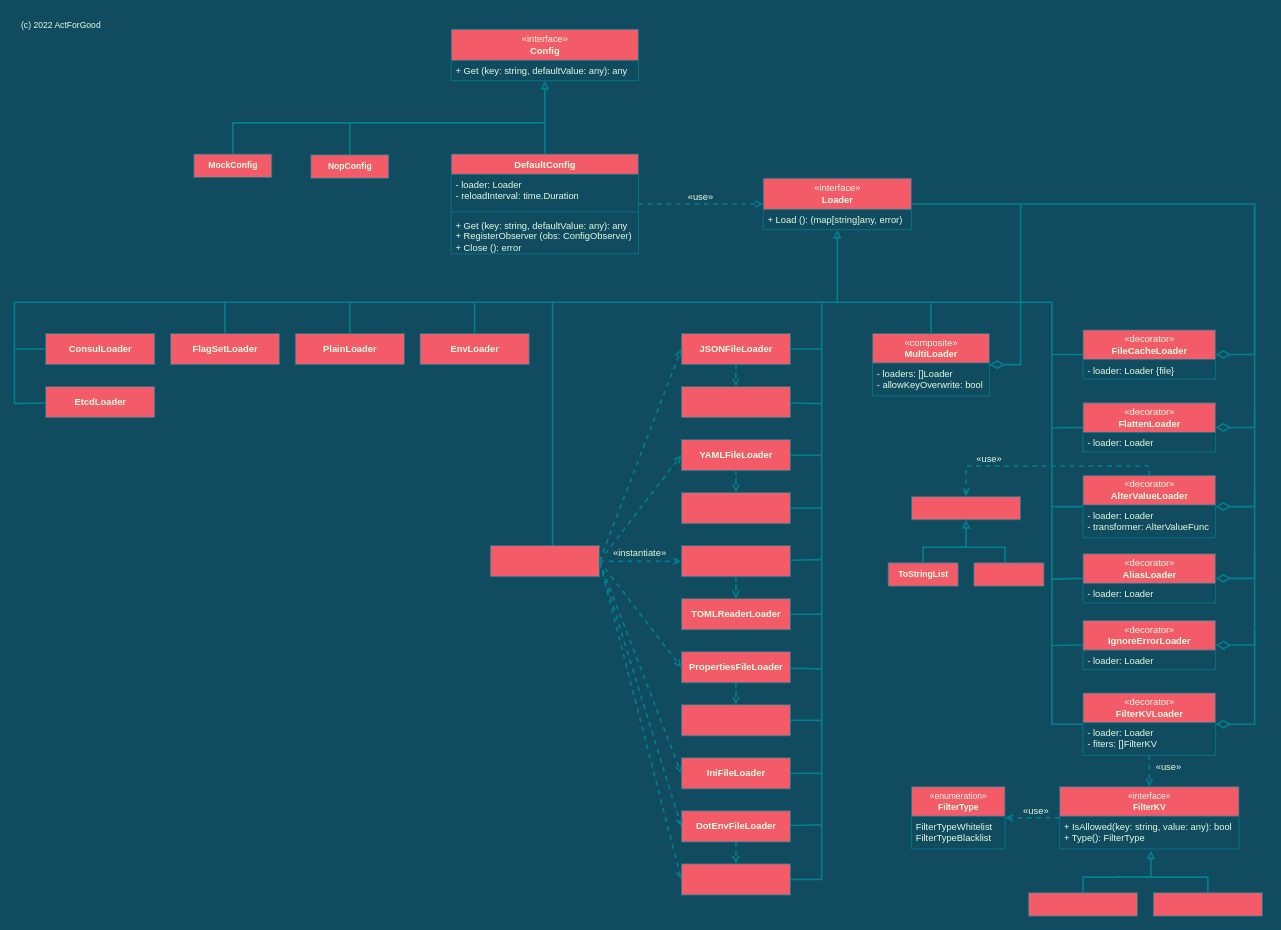
Some shapes in this 1281 by 930 pixel diagram are drawn without their labels. The centre of each missing label's shape, as x and y in pixels:
AlterValueFunc: (x=966, y=508)
DotEnvReaderLoader: (x=736, y=879)
FilterKVBlacklistFunc: (x=1207, y=904)
FilterKVWhitelistFunc: (x=1083, y=904)
JSONReaderLoader: (x=736, y=402)
PropertiesBytesLoader: (x=736, y=720)
ToIntList: (x=1008, y=574)
TOMLFileLoader: (x=736, y=561)
YAMLReaderLoader: (x=736, y=508)
«factory» FileLoader: (x=544, y=561)
